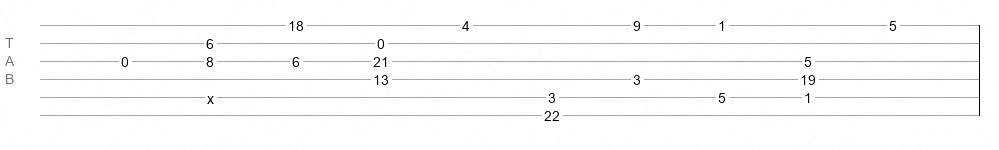0: (121, 54, 129, 64), (377, 36, 385, 46)
1: (718, 18, 726, 28), (804, 90, 812, 100)
13: (373, 72, 389, 82)
18: (288, 18, 304, 28)
19: (800, 72, 816, 82)
21: (373, 54, 389, 64)
22: (544, 108, 560, 118)
3: (548, 90, 556, 100), (633, 72, 641, 82)
4: (462, 18, 470, 28)
5: (718, 90, 726, 100), (804, 54, 812, 64), (889, 18, 897, 28)
6: (206, 36, 214, 46), (292, 54, 300, 64)
8: (206, 54, 214, 64)
9: (633, 18, 641, 28)
x: (207, 91, 214, 99)
